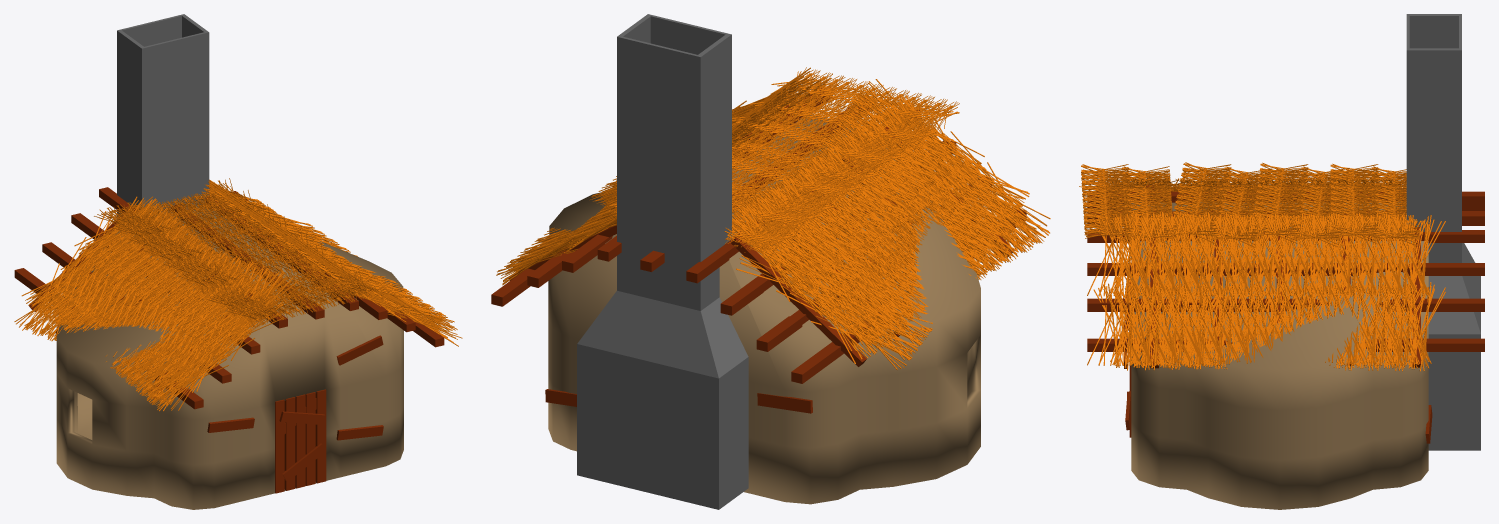
File: Maison_Bertie_Extérieur.fbx
The picture shows the model from 3 angles, left to right: view 1: azimuth 30°, elevation 25°; view 2: azimuth 150°, elevation 25°; view 3: azimuth 270°, elevation 25°; orthographic projection. The views are drawn at different scales.
Visible parts, largest first — view 1: Murs, Cube, Cube.060, Cube.024, Cube.002, Cube.001, Poutre.006, Cube.004, Cube.003, Cube.041, Porte.004, Porte.003 (+8 smaller); view 2: Cube, Murs, Cube.002, Cube.060, Cube.001, Cube.024, Poutre.006, Cube.004, Cube.003, Cube.041, Porte.016; view 3: Murs, Cube.003, Cube.004, Cube, Cube.060, Cube.041, Poutre.006, Cube.024, Cube.002, Cube.001.
Boxes of the visible parts, x1,y1,x2,y2 form: Murs: [56, 204, 403, 509]; Cube: [117, 14, 209, 217]; Cube.060: [94, 178, 378, 326]; Cube.024: [21, 197, 283, 410]; Cube.002: [14, 211, 301, 392]; Cube.001: [30, 196, 283, 411]; Poutre.006: [14, 181, 444, 409]; Cube.004: [203, 181, 457, 329]; Cube.003: [207, 179, 455, 330]; Cube.041: [201, 184, 462, 346]; Porte.004: [315, 389, 326, 483]; Porte.003: [275, 399, 284, 493]; Cube: [577, 14, 748, 509]; Murs: [548, 115, 980, 504]; Cube.002: [736, 79, 1029, 369]; Cube.060: [609, 67, 959, 255]; Cube.001: [725, 98, 1049, 352]; Cube.024: [724, 95, 1050, 364]; Poutre.006: [491, 87, 1026, 383]; Cube.004: [497, 71, 814, 281]; Cube.003: [496, 67, 815, 285]; Cube.041: [502, 79, 828, 277]; Porte.016: [757, 393, 812, 413]; Murs: [1131, 202, 1428, 509]; Cube.003: [1103, 211, 1445, 371]; Cube.004: [1101, 212, 1445, 370]; Cube: [1406, 14, 1480, 450]; Cube.060: [1081, 162, 1419, 247]; Cube.041: [1087, 214, 1429, 367]; Poutre.006: [1087, 185, 1484, 368]; Cube.024: [1100, 178, 1406, 191]; Cube.002: [1102, 177, 1382, 192]; Cube.001: [1079, 179, 1406, 191].
Size of what is drawn, in the model's own units: 458 by 479 by 449.
